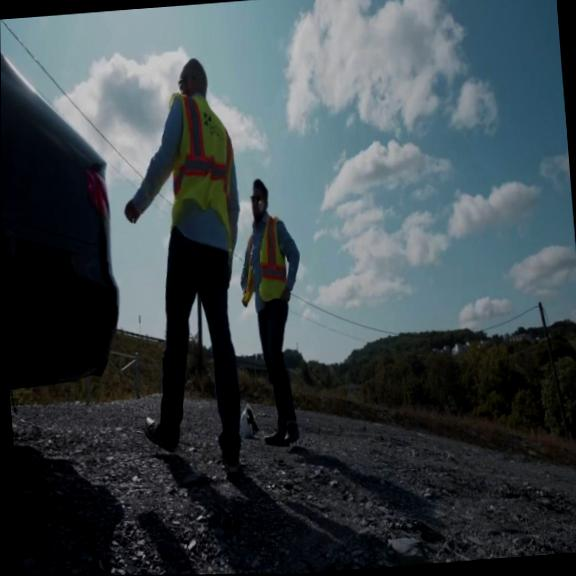safety_vest: (160, 87, 241, 262), (237, 212, 290, 302)
